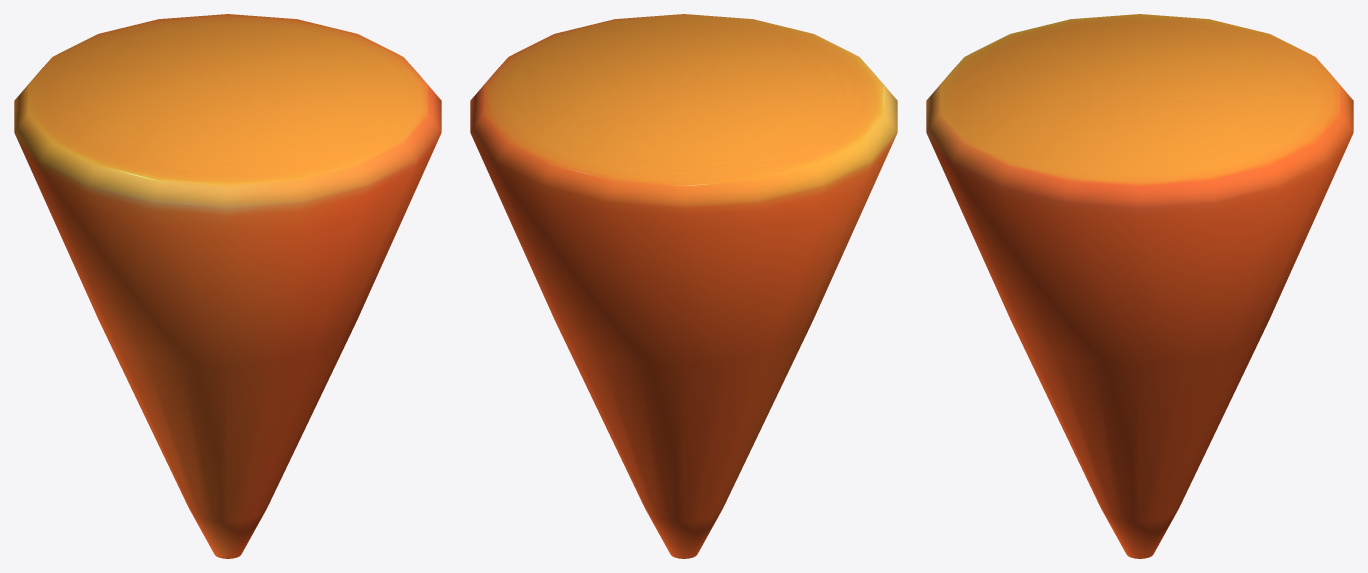
File: mj_table_01_arrow.FBX
3 views of the same model, side by side, from view 1: azimuth 30°, elevation 25°; view 2: azimuth 150°, elevation 25°; view 3: azimuth 270°, elevation 25° (orthographic).
Parts seen in each view (by area): view 1: mj_table_01_arrow; view 2: mj_table_01_arrow; view 3: mj_table_01_arrow.
Boxes of the visible parts, x1,y1,x2,y2 form: mj_table_01_arrow: (14, 14, 441, 558); mj_table_01_arrow: (470, 14, 897, 558); mj_table_01_arrow: (926, 14, 1353, 558).
Size of the model in its own units: 0.0299 by 0.0345 by 0.0295.
